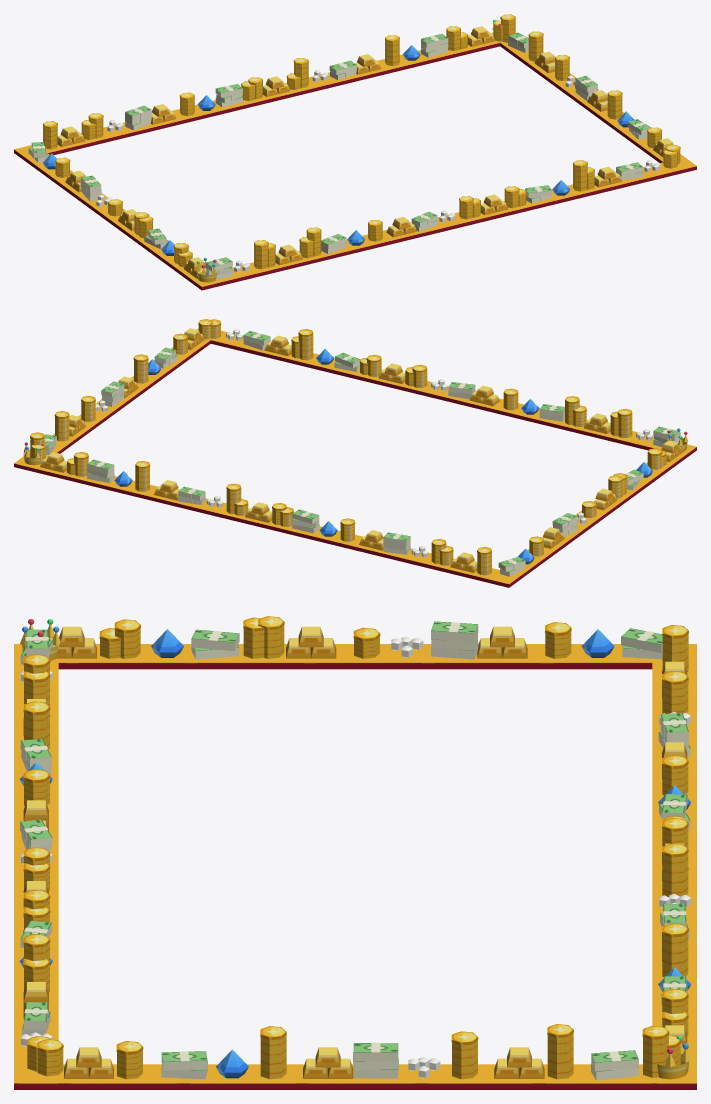
Rendered from Rim_Coins.fbx.
3 views of the same model, one above another, from view 1: azimuth 30°, elevation 25°; view 2: azimuth 150°, elevation 25°; view 3: azimuth 270°, elevation 25° (orthographic). The views are drawn at different scales.
Visible parts, largest first — view 1: Rim_Coins; view 2: Rim_Coins; view 3: Rim_Coins.
Boxes of the visible parts, x1=… form: Rim_Coins: x1=14, y1=14, x2=696, y2=290; Rim_Coins: x1=14, y1=319, x2=696, y2=587; Rim_Coins: x1=14, y1=616, x2=696, y2=1089.
Bounding box in the file's own units: 3.5 × 0.1948 × 2.3.
1 material, 1 textured.
